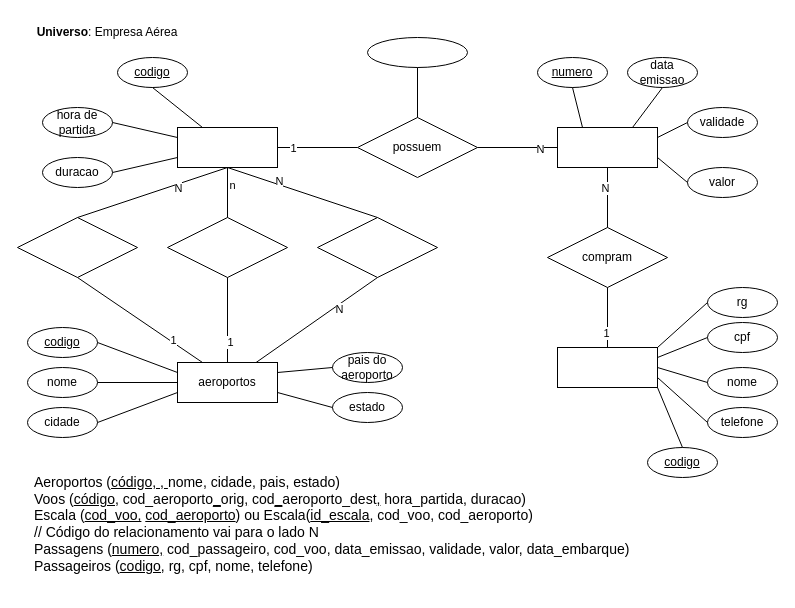
This 795x608 diagram has some shape labels left out. The shapes that lost their labels are listed below. From the top down, each one's box as (x1, y1, x2, y2) in pixels, then its label:
(366, 36, 468, 68): data de embarque
(176, 126, 278, 168): voos
(556, 126, 658, 168): passagens
(16, 216, 138, 278): origem
(166, 216, 288, 278): destino
(316, 216, 438, 278): escala
(556, 346, 658, 388): passageiros
